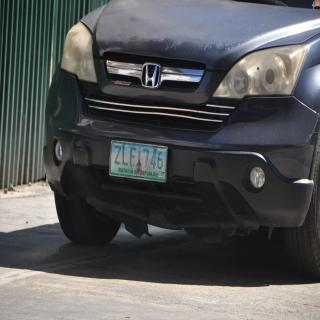license: (110, 141, 169, 183)
